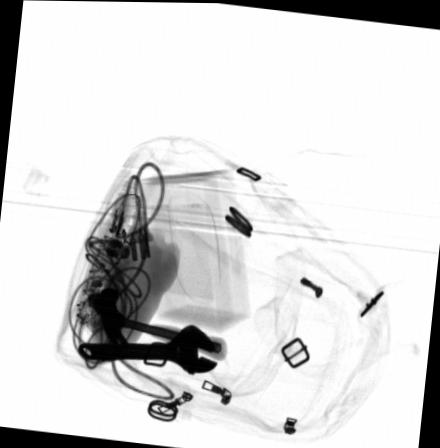Hammer: (87, 286, 228, 361)
Wrench: (76, 321, 218, 371)
